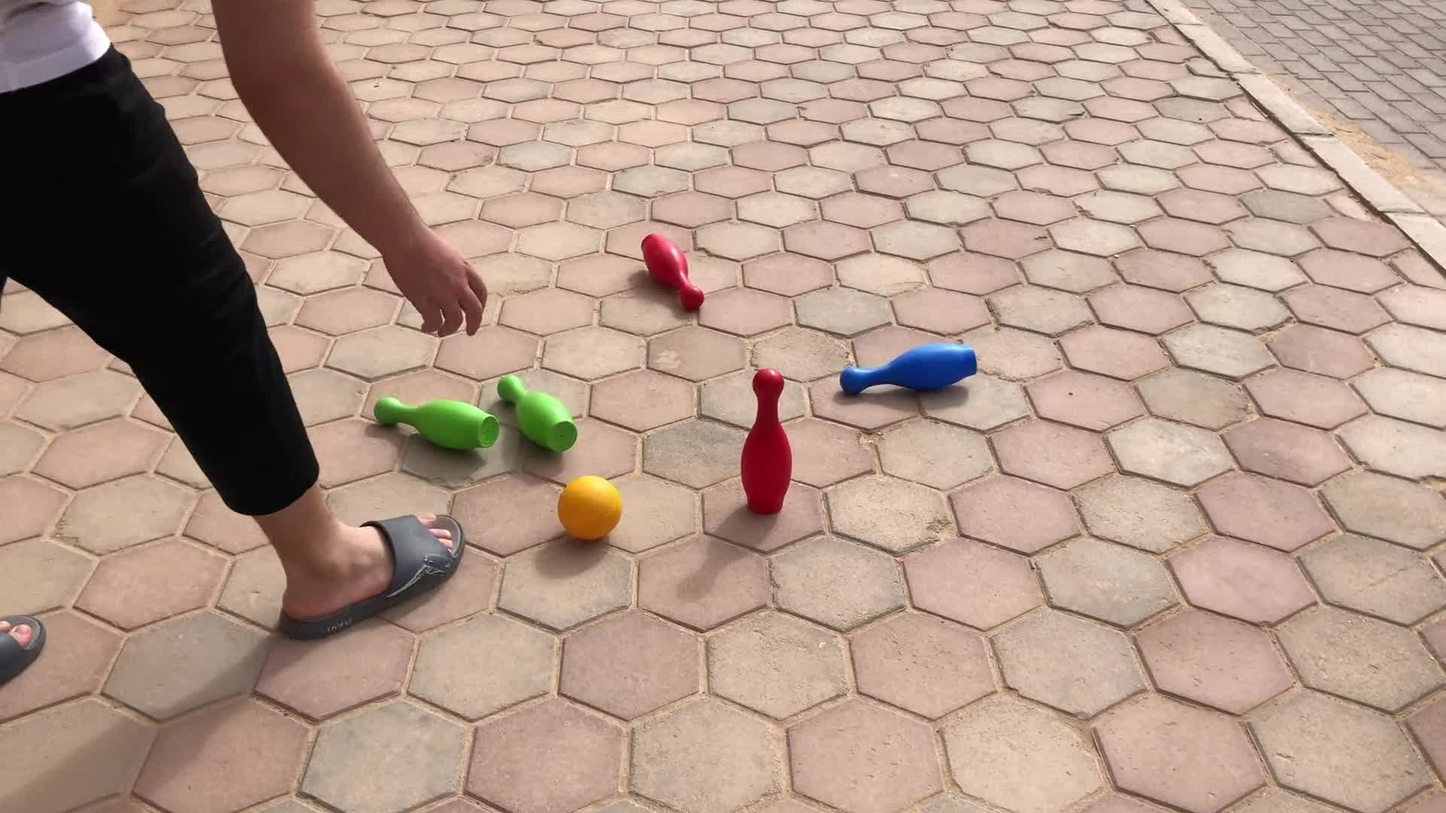pin: (740, 369, 792, 516), (840, 343, 978, 394), (375, 396, 499, 452), (498, 375, 576, 452), (646, 231, 707, 311)
